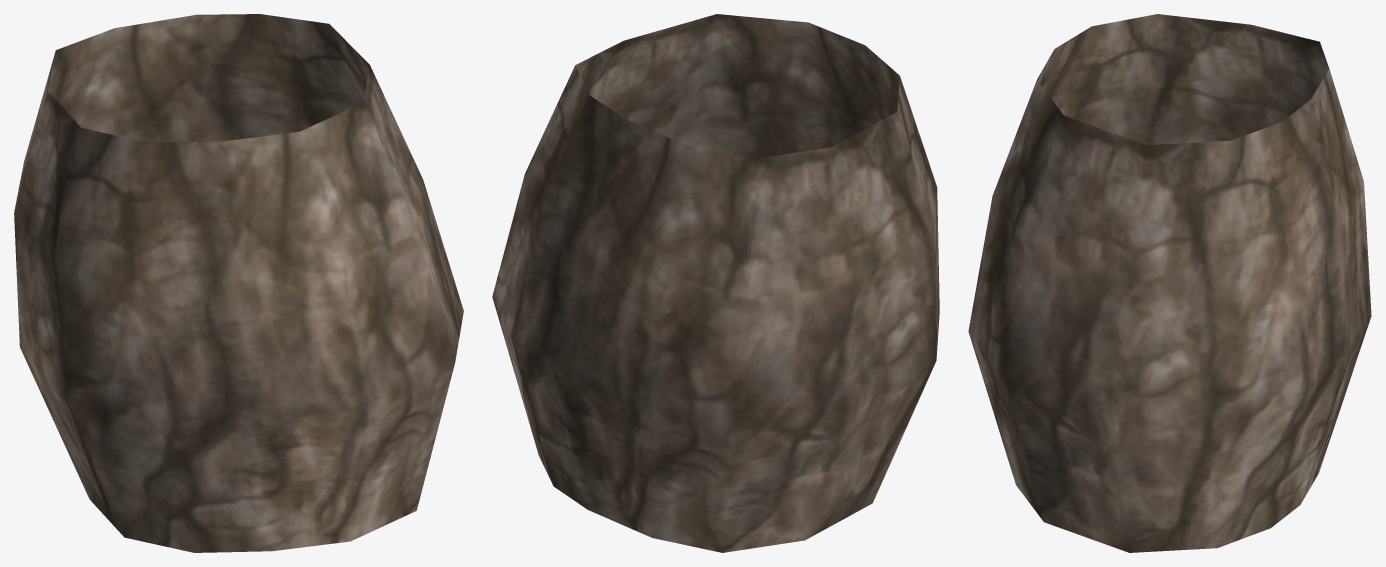
File: EKH_GROTTO_PS_GR_LIB_EXIT_CAVE.fbx
The picture shows the model from 3 angles, left to right: view 1: azimuth 30°, elevation 25°; view 2: azimuth 150°, elevation 25°; view 3: azimuth 270°, elevation 25°; orthographic projection. The views are drawn at different scales.
Visible parts, largest first — view 1: EKH_GROTTO_PS_GR_LIB_EXIT_CAVE; view 2: EKH_GROTTO_PS_GR_LIB_EXIT_CAVE; view 3: EKH_GROTTO_PS_GR_LIB_EXIT_CAVE.
Part boxes in pixels (x1,y1,x2,y2): EKH_GROTTO_PS_GR_LIB_EXIT_CAVE: (14,14,463,552); EKH_GROTTO_PS_GR_LIB_EXIT_CAVE: (492,14,939,552); EKH_GROTTO_PS_GR_LIB_EXIT_CAVE: (968,14,1371,552).
Bounding box in the file's own units: 29373 × 29578 × 27285.
1 material, 1 textured.
